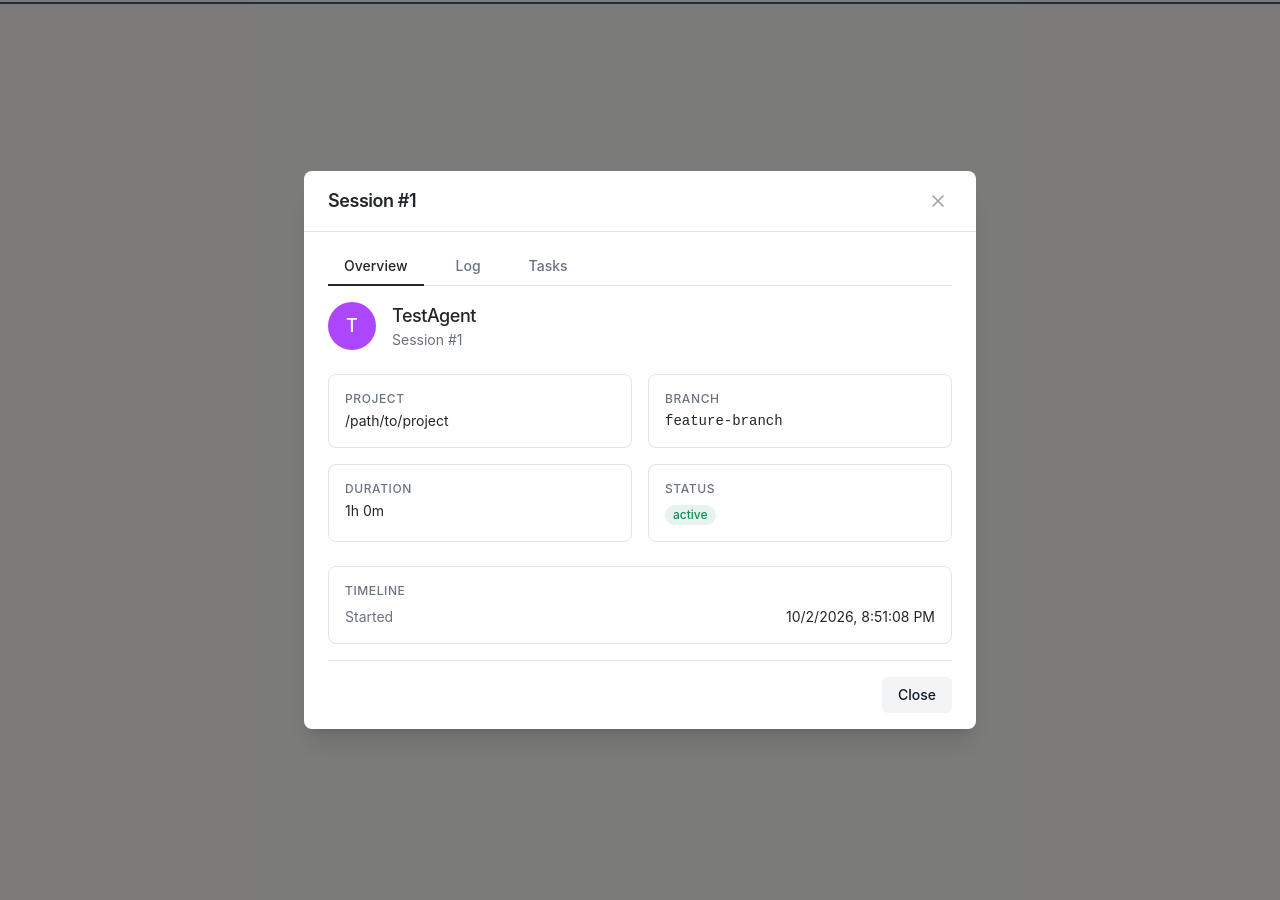
SessionDetail › switches to log tab
What coordinates should you click on to do the following:
click the button "Log"
I would click on:
 (468, 267)
Its box is x1=440 y1=248 x2=496 y2=286.
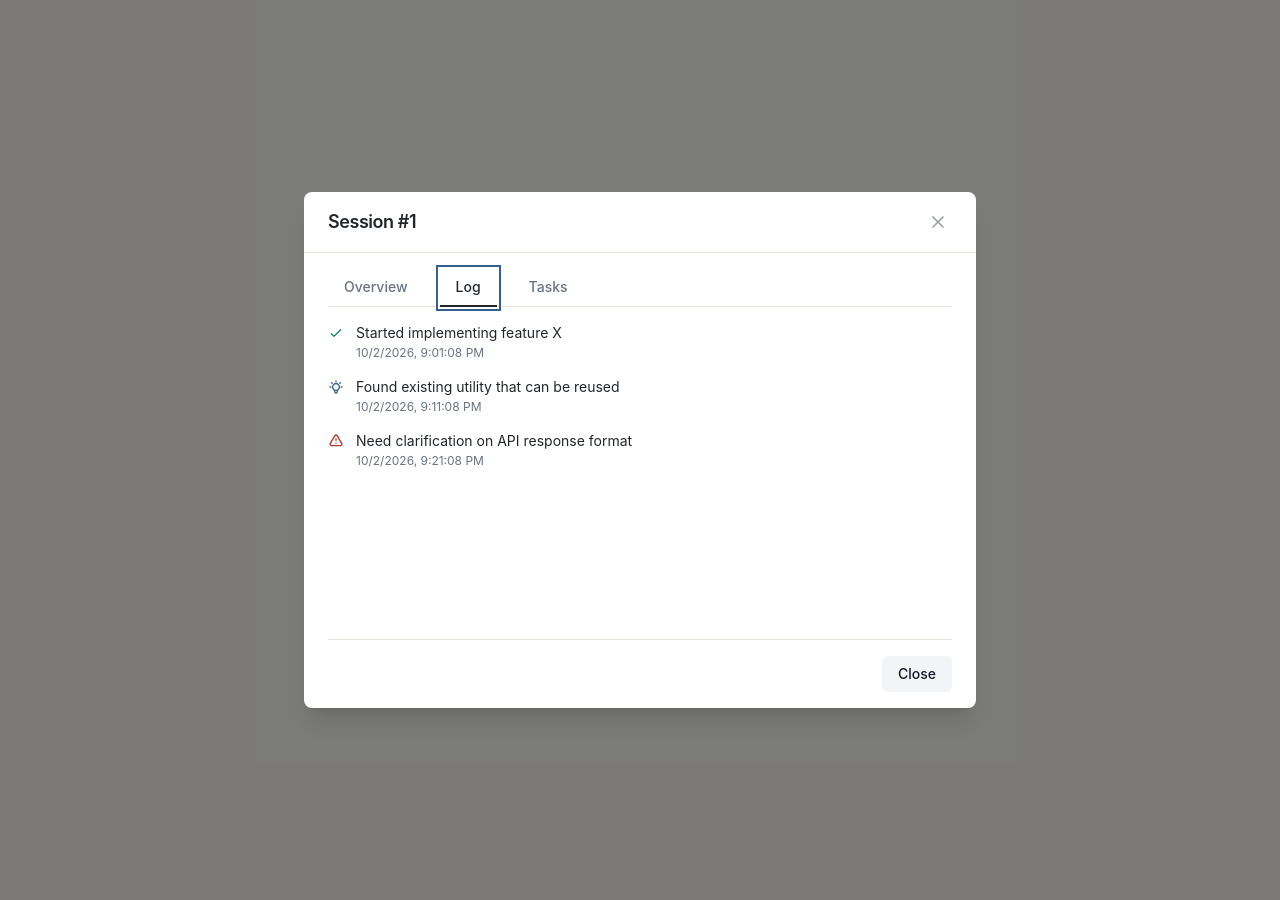
Expected: the text "Started implementing feature X" is shown, x1=356 y1=324 x2=562 y2=341
Expected: the text "Found existing utility that can be reused" is shown, x1=356 y1=378 x2=620 y2=395
Expected: the text "Need clarification on API response format" is shown, x1=356 y1=432 x2=632 y2=449
